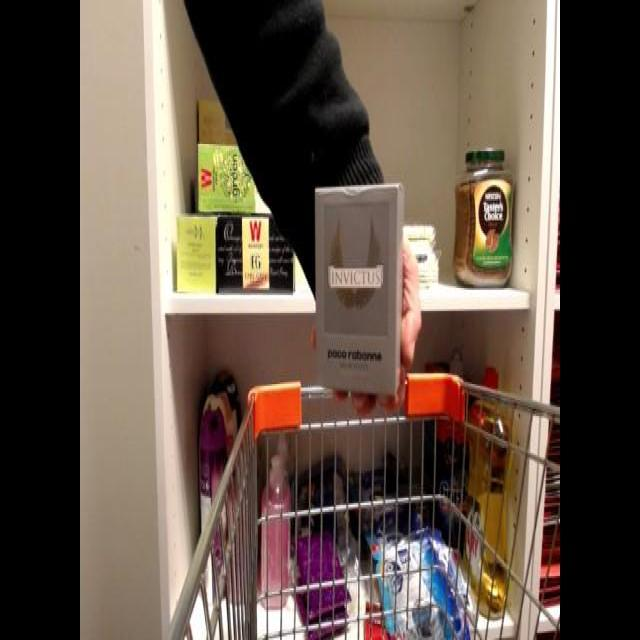Paco Rabanne: (312, 176, 410, 400)
